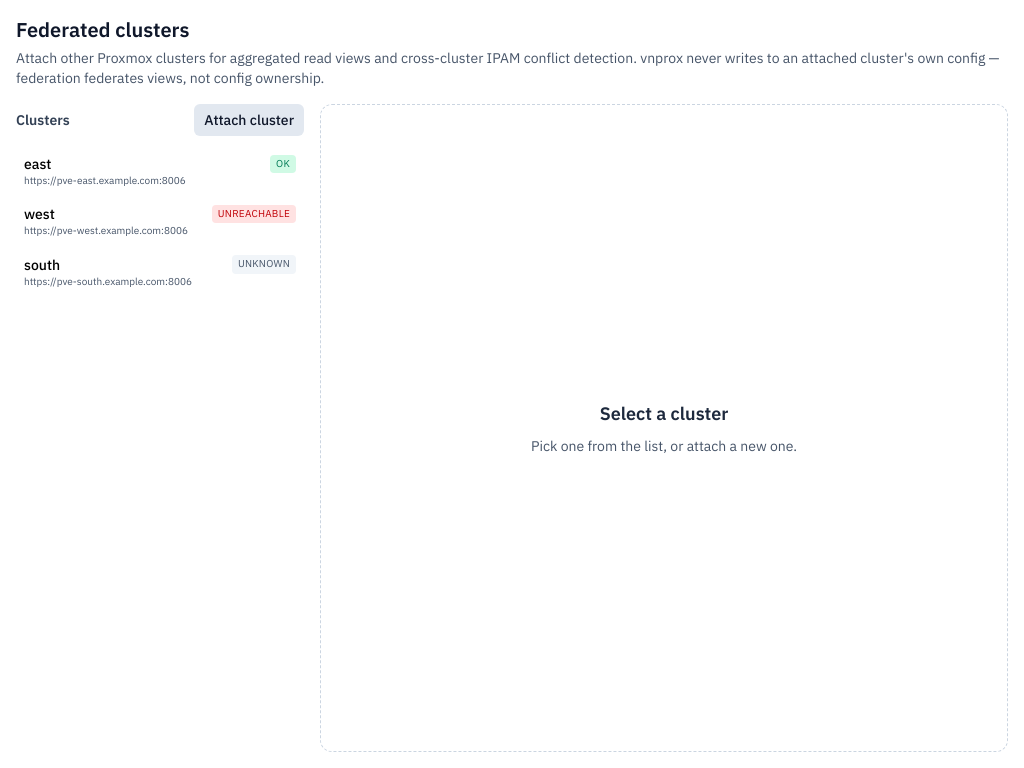
Test case: FederationClusters list + selection › selecting a cluster populates the edit form with its name/apiUrl but no credential fields
Click the button "east ok https://pve-east.example.com:8006".
click(160, 171)  # box [16,148,304,194]
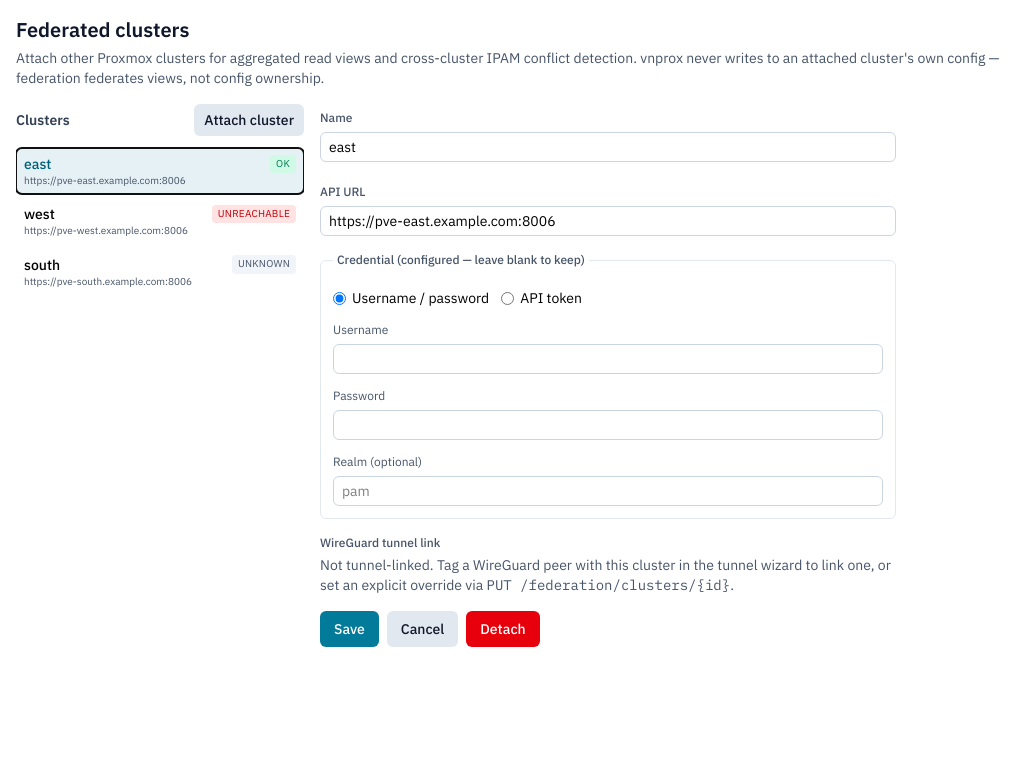
Expected: the field labelled "Name" holds "east", [320,132,896,162]
Expected: the field labelled "API URL" holds "https://pve-east.example.com:8006", [320,206,896,236]
Expected: the password field labelled "Password" is empty, [333,410,883,440]
